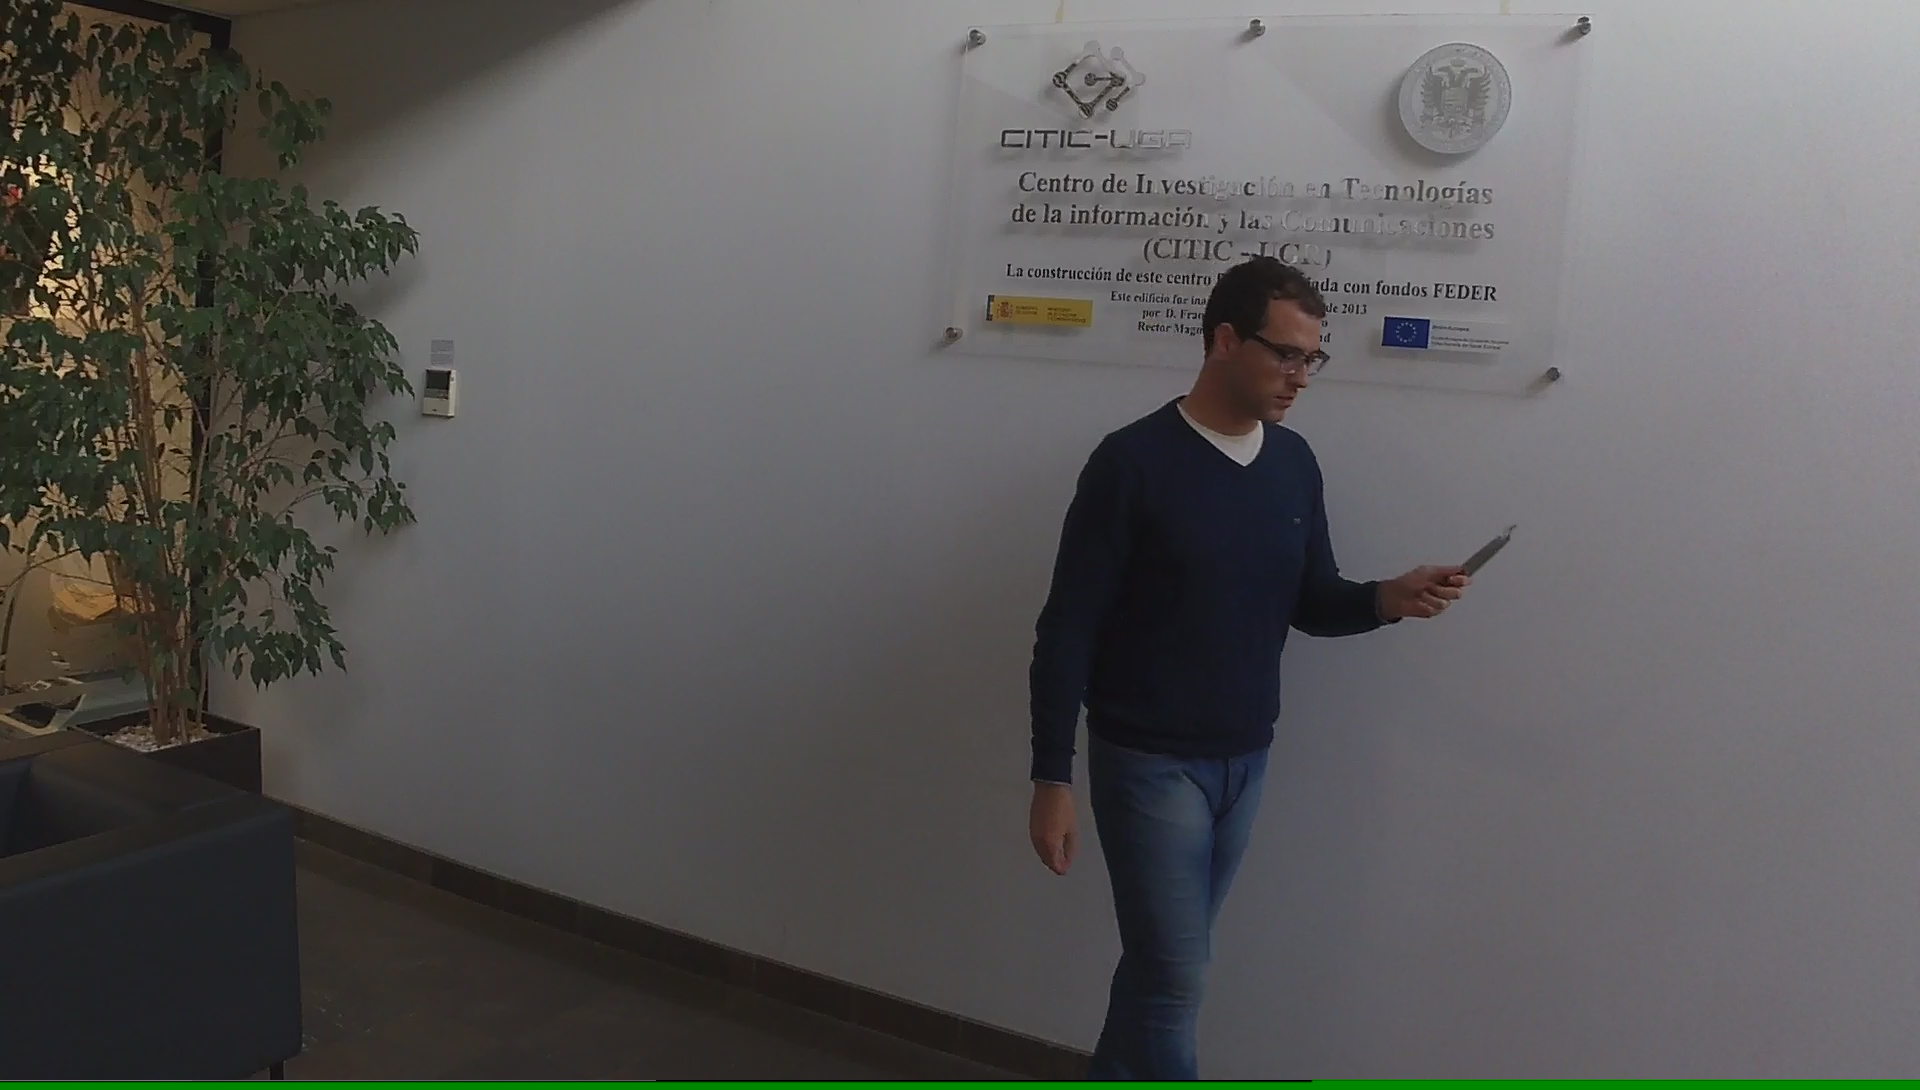knife: (1414, 511, 1532, 614)
